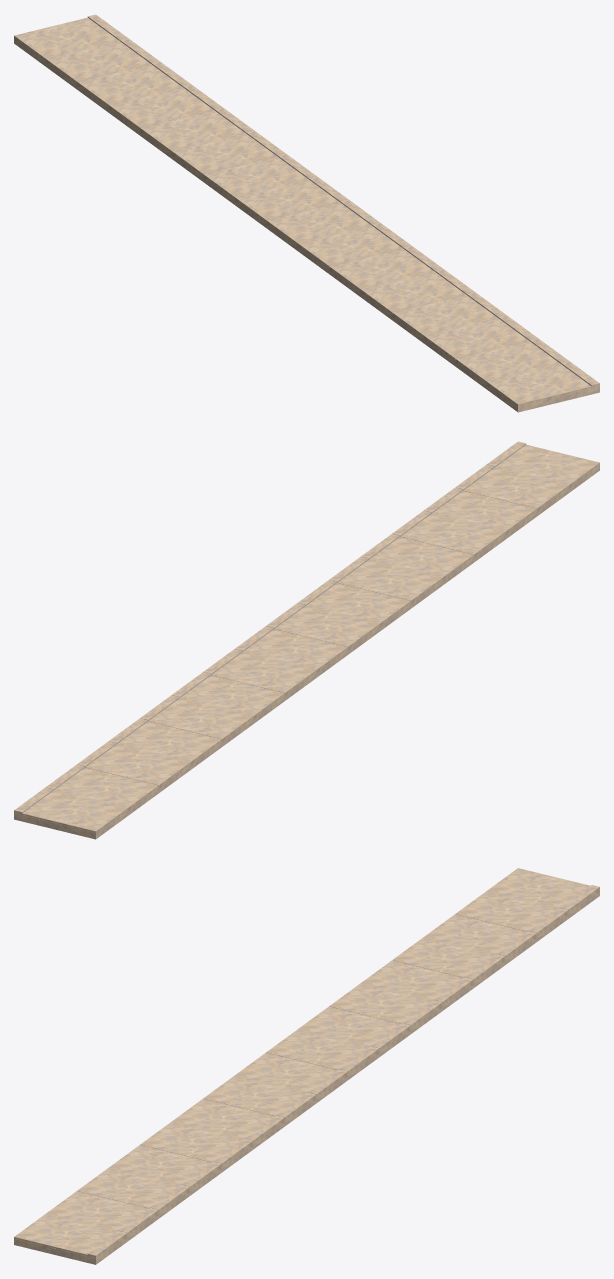
Rendered from pavement-straight-yaw180.glb.
The picture shows the model from 3 angles, top to bottom: view 1: azimuth 30°, elevation 25°; view 2: azimuth 150°, elevation 25°; view 3: azimuth 330°, elevation 25°; orthographic projection.
Parts seen in each view (by area): view 1: pavement-straight; view 2: pavement-straight; view 3: pavement-straight.
Boxes of the visible parts, x1,y1,x2,y2 form: pavement-straight: [14, 14, 599, 412]; pavement-straight: [14, 441, 599, 839]; pavement-straight: [14, 868, 599, 1264].
Size of the model in its own units: 1.5 by 0.16 by 16.
Materials: 1 (1 with a texture image).
